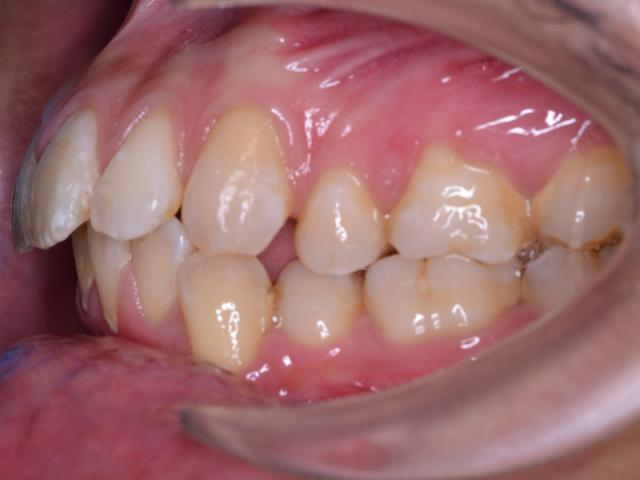canine class II 1/2: (175, 106, 345, 373)
molar class II 1/4: (357, 138, 529, 350)
